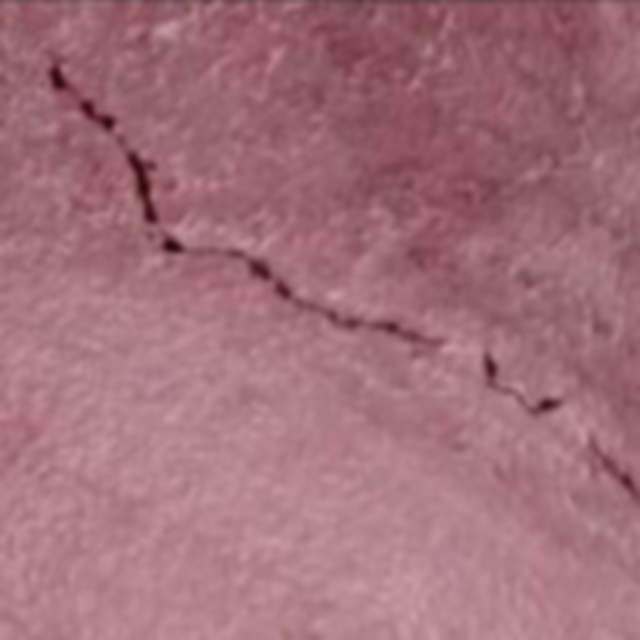SurfaceCrack: (18, 54, 640, 502)
